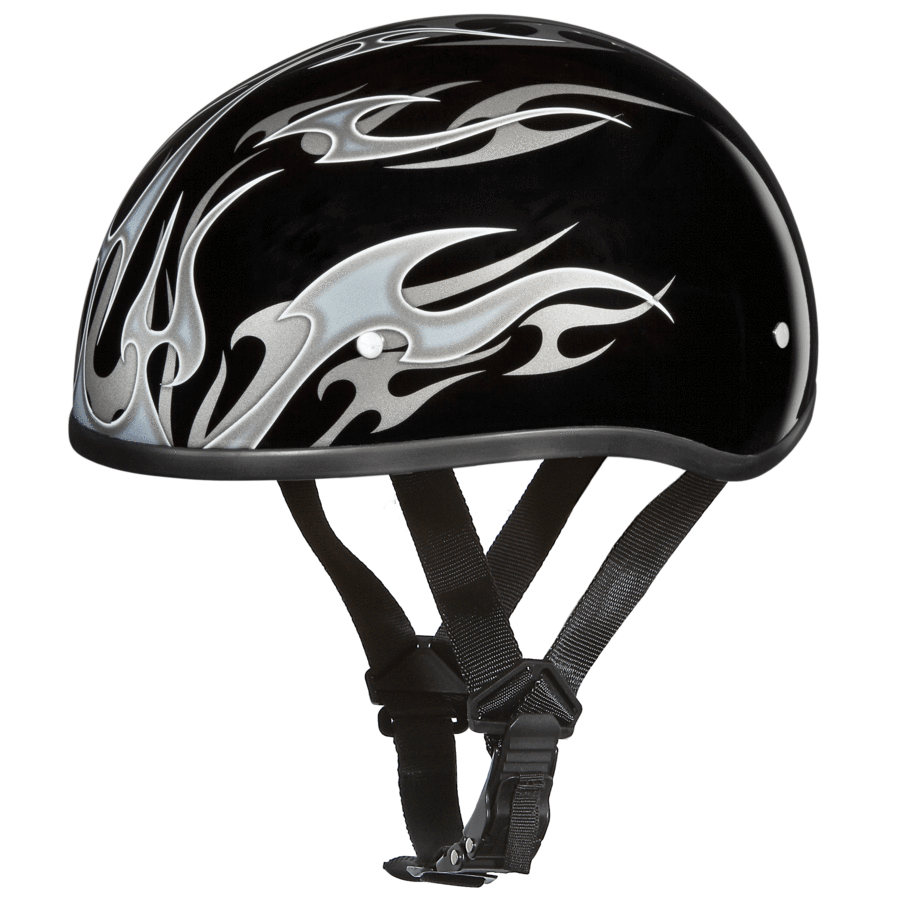with_helmet: (51, 5, 836, 518)
